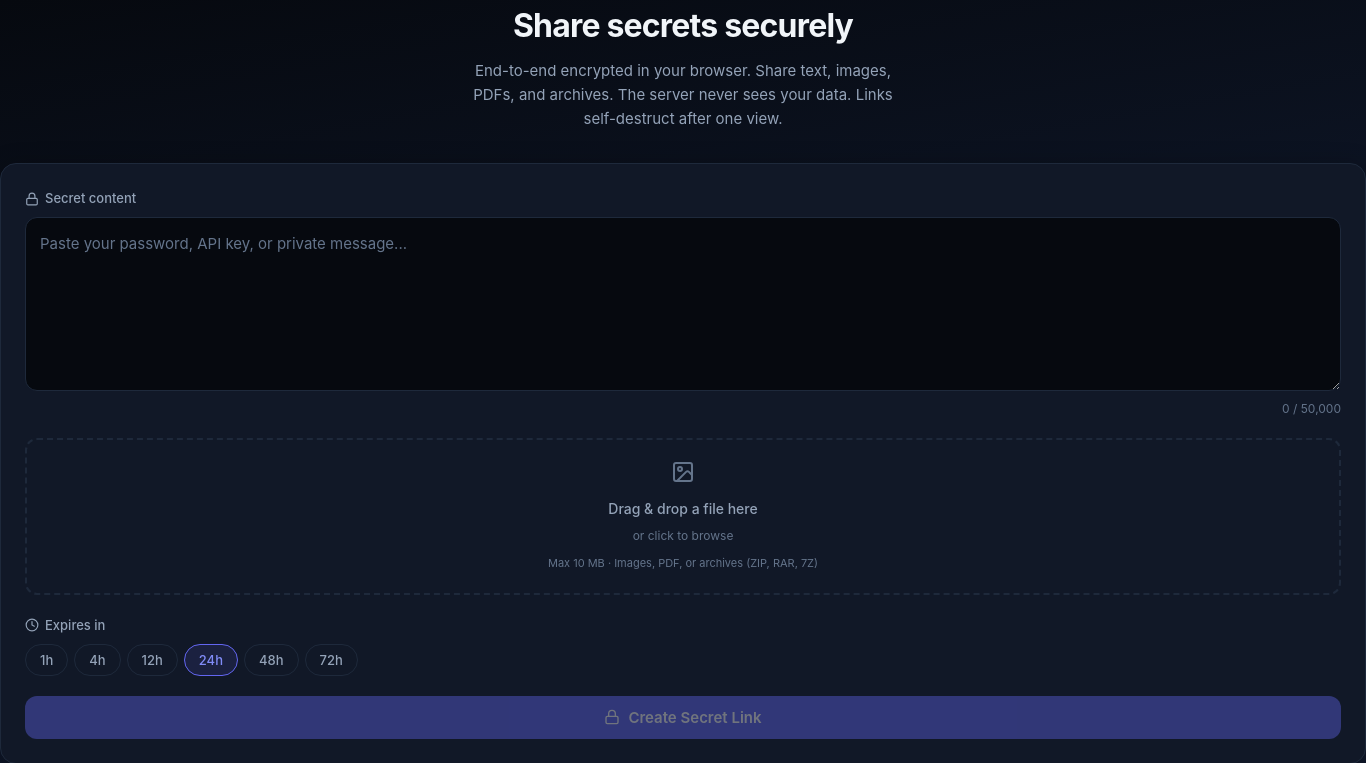
CreateSecret › shows error on API failure
Type "test" into the text box with placeholder "Paste your password, API key, or private message...".
click(683, 304); type("test")  # box [25,217,1341,391]
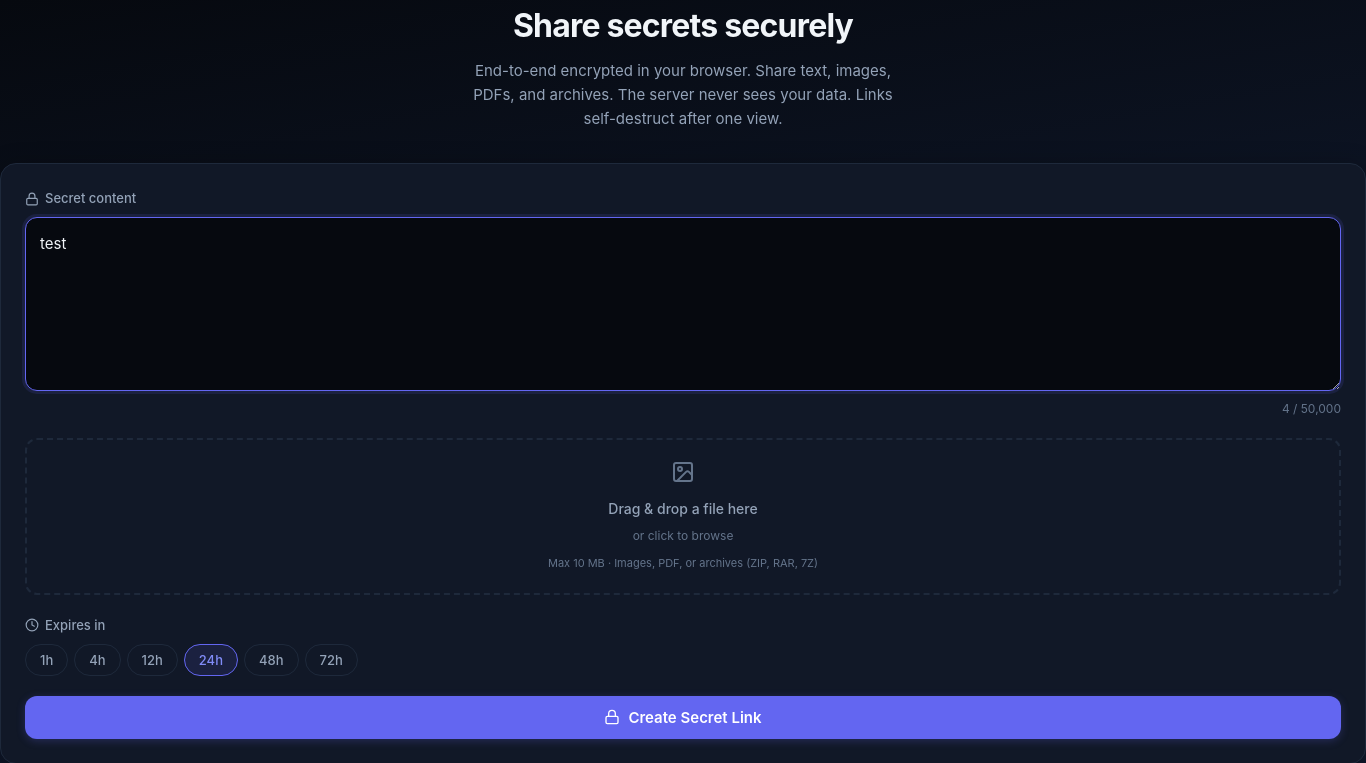
Click the button "Create Secret Link".
click(683, 717)  # box [25,696,1341,739]
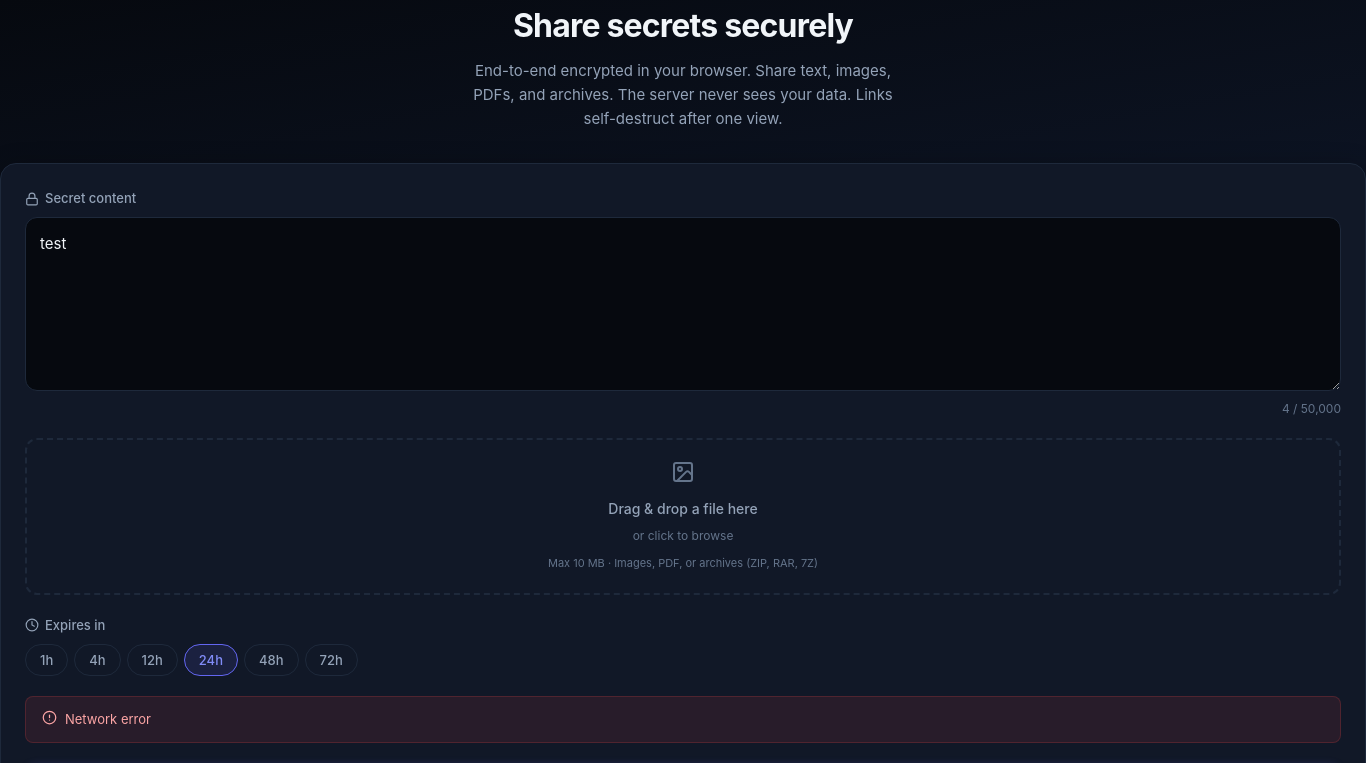
Expected: the text "Network error" is shown, [65,709,151,730]
